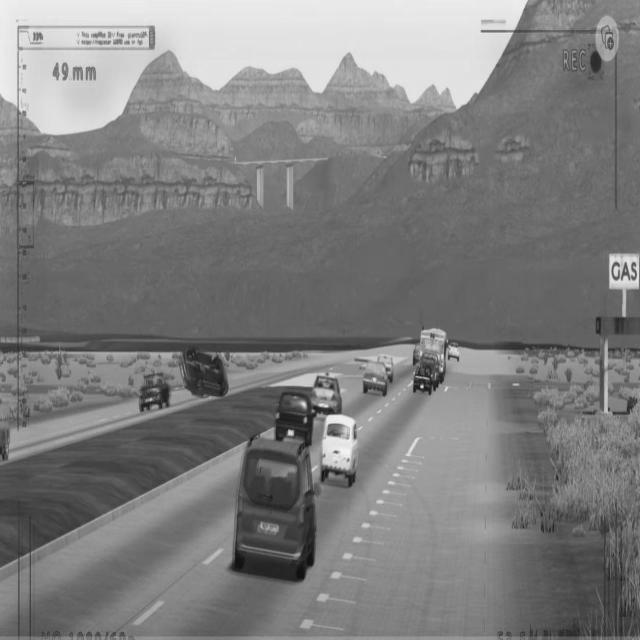accident: (177, 342, 233, 402)
vehicle: (232, 427, 319, 585), (318, 408, 360, 490), (275, 385, 315, 451), (137, 370, 171, 414), (308, 373, 342, 416), (361, 357, 389, 401), (412, 363, 435, 400)
